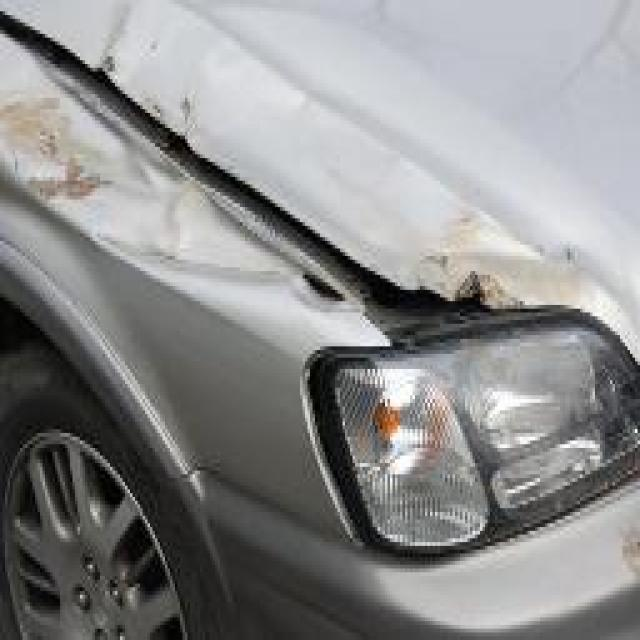Bonnet: (0, 0, 640, 377)
Fender: (0, 40, 394, 363)
